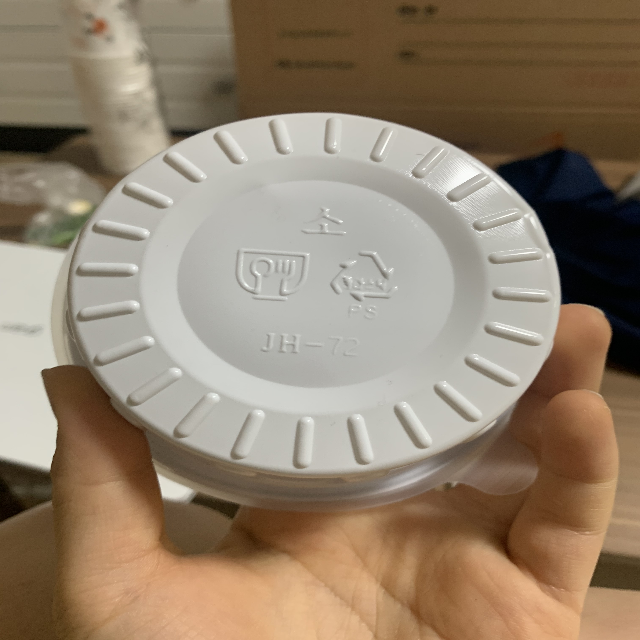ps: (332, 249, 403, 323)
